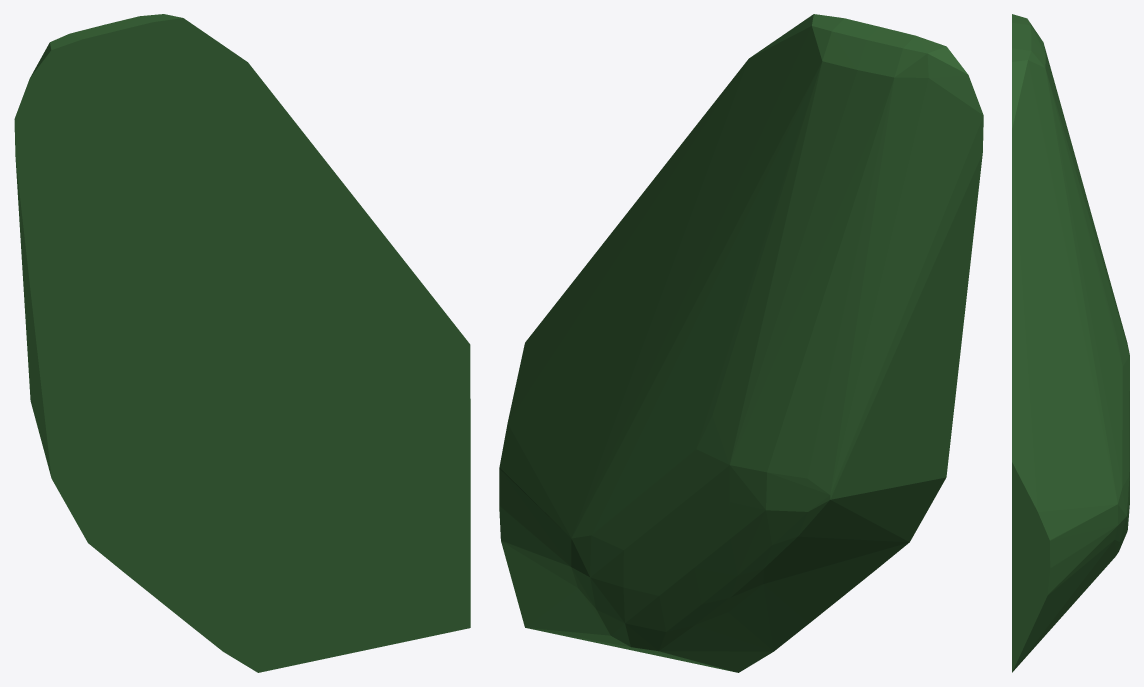
Rendered from pelvis_part_19.obj.
The picture shows the model from 3 angles, left to right: view 1: azimuth 30°, elevation 25°; view 2: azimuth 150°, elevation 25°; view 3: azimuth 270°, elevation 25°; orthographic projection. The views are drawn at different scales.
Bounding box in the file's own units: 0.0298 × 0.0426 × 0.00895.
